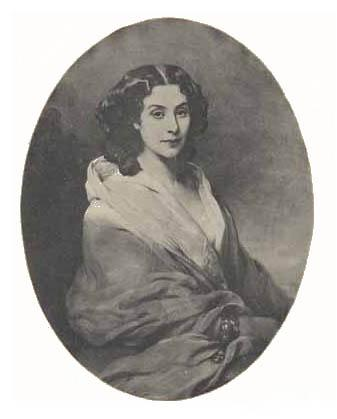person: (74, 62, 293, 381)
